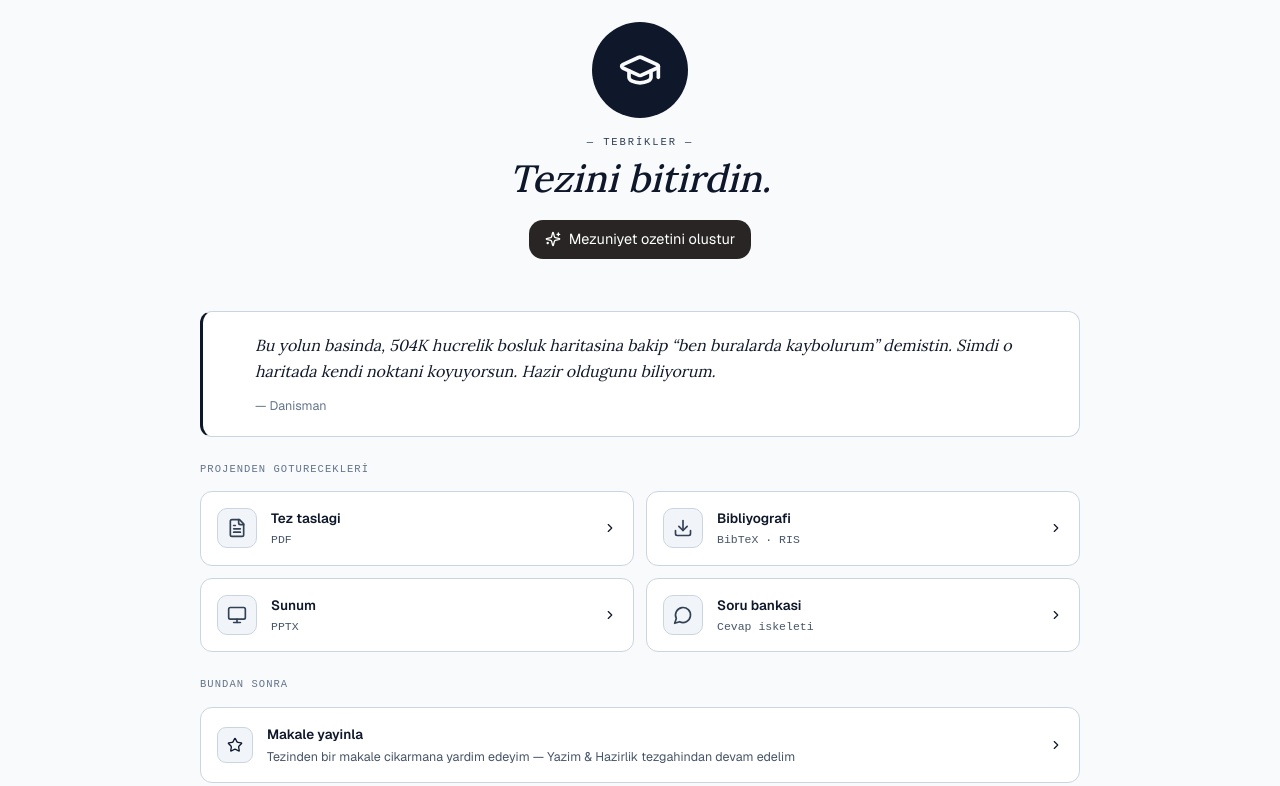
Test: ProjectClosurePage › Mezuniyet ozetini olustur → POST snapshot + step_reviews + badges + advice render
Click the button "Mezuniyet ozetini olustur" at (640,239), box [529,220,751,259]
(page scrolled)
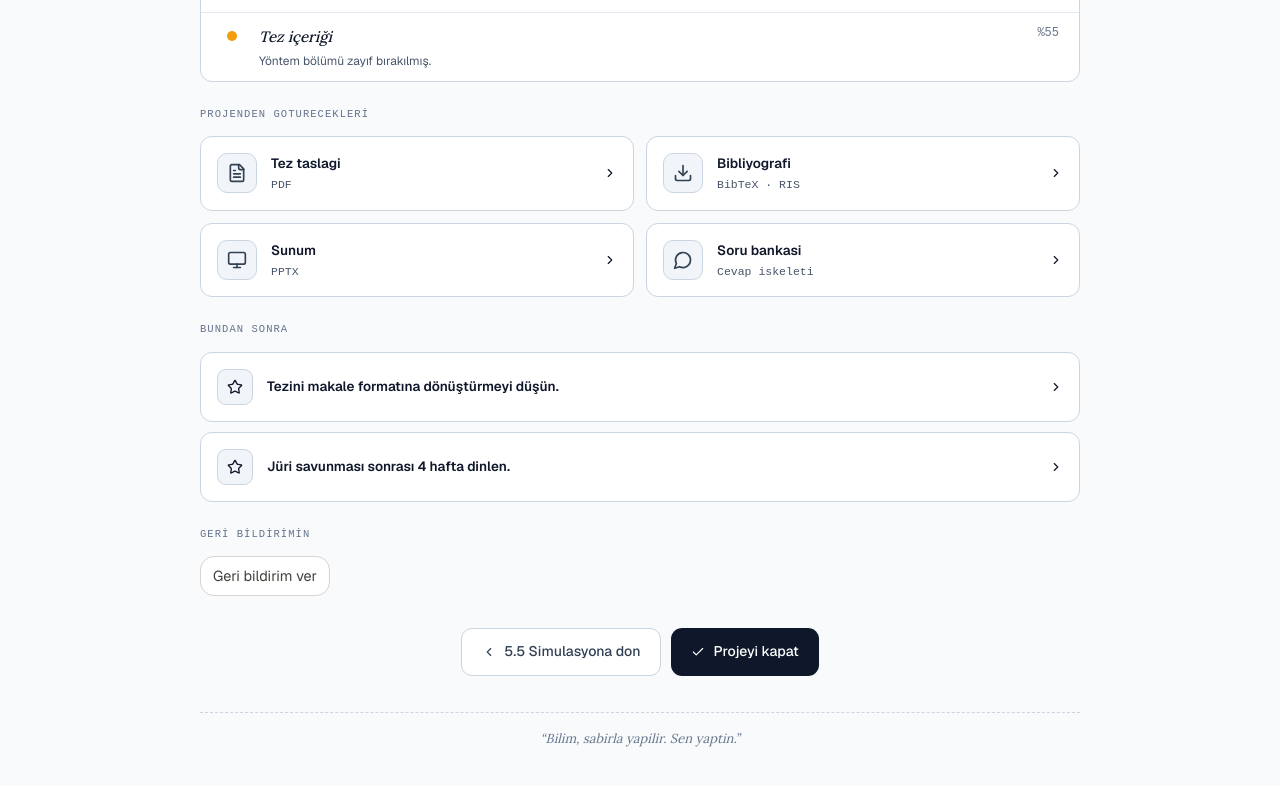
Check: the text "Tez içeriği" is shown, box [259,27,332,46]
Check: the text "%55" is shown, box [1037,25,1059,41]
Check: the text "Tezini makale formatına dönüştürmeyi düşün." is shown, box [267,377,559,395]
